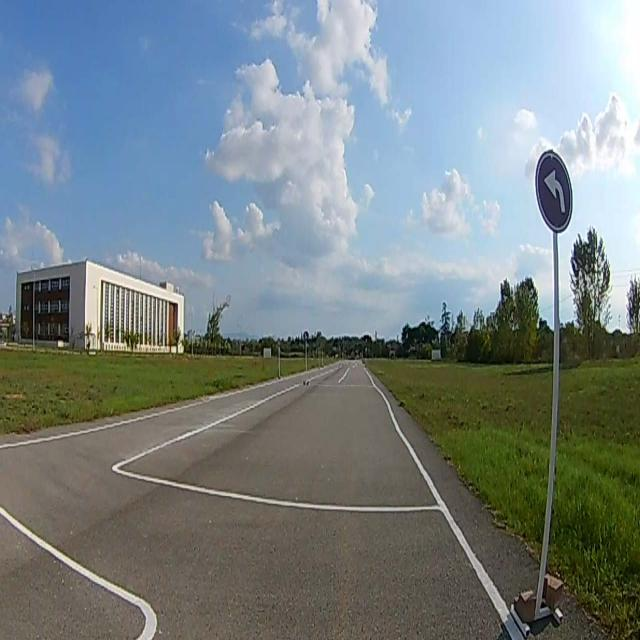sol: (534, 149, 572, 231)
